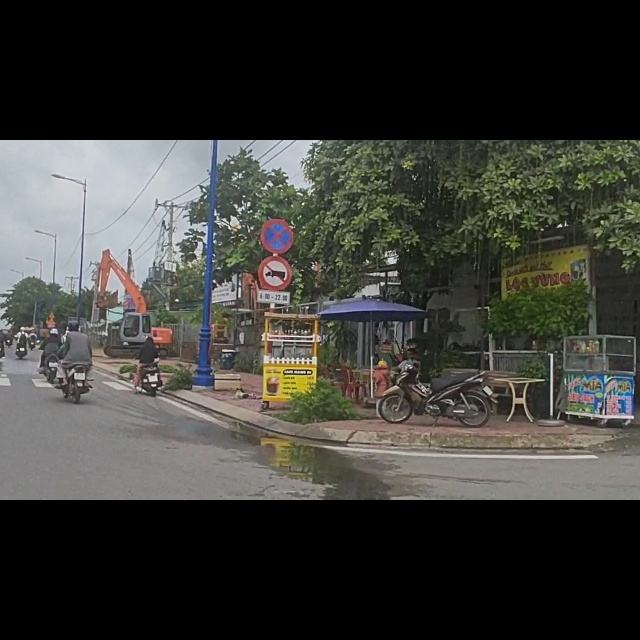bien_nguy_hiem: (258, 205, 292, 269), (261, 140, 295, 203)
